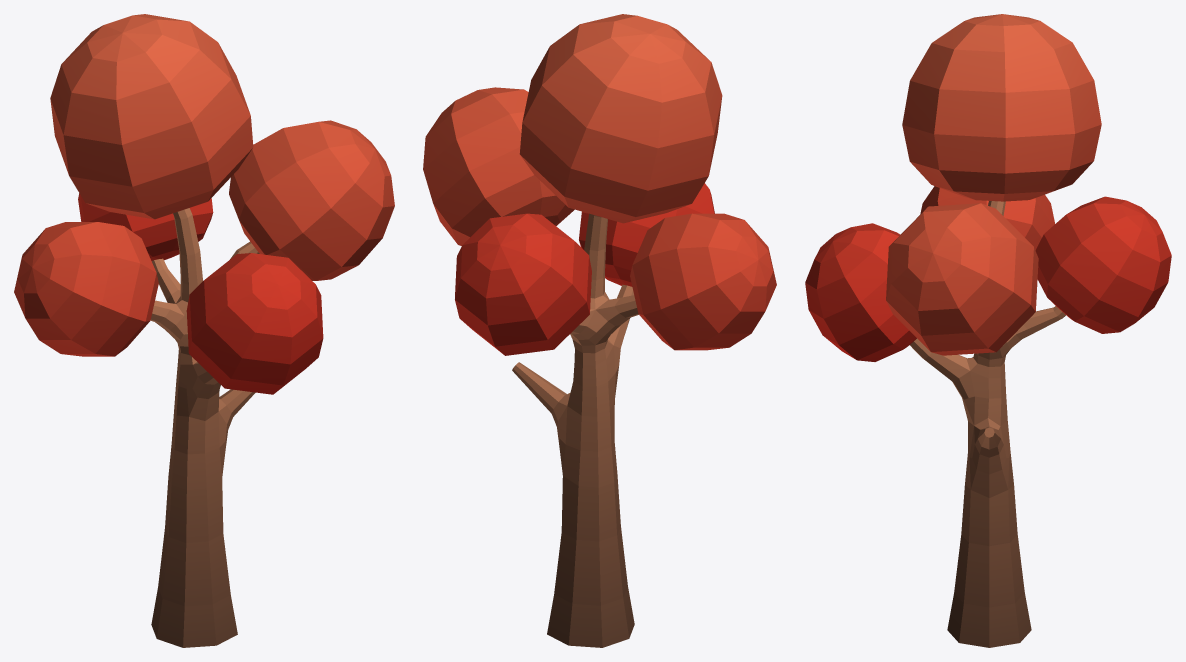
The model's file is autumn tree 4.fbx.
The picture shows the model from 3 angles, left to right: view 1: azimuth 30°, elevation 25°; view 2: azimuth 150°, elevation 25°; view 3: azimuth 270°, elevation 25°; orthographic projection. The views are drawn at different scales.
Parts seen in each view (by area): view 1: autumn tree 4; view 2: autumn tree 4; view 3: autumn tree 4.
Part boxes in pixels (x1=…): autumn tree 4: x1=14, y1=14, x2=394, y2=647; autumn tree 4: x1=423, y1=14, x2=776, y2=647; autumn tree 4: x1=805, y1=14, x2=1171, y2=647.
Bounding box in the file's own units: 360 × 609 × 343.
